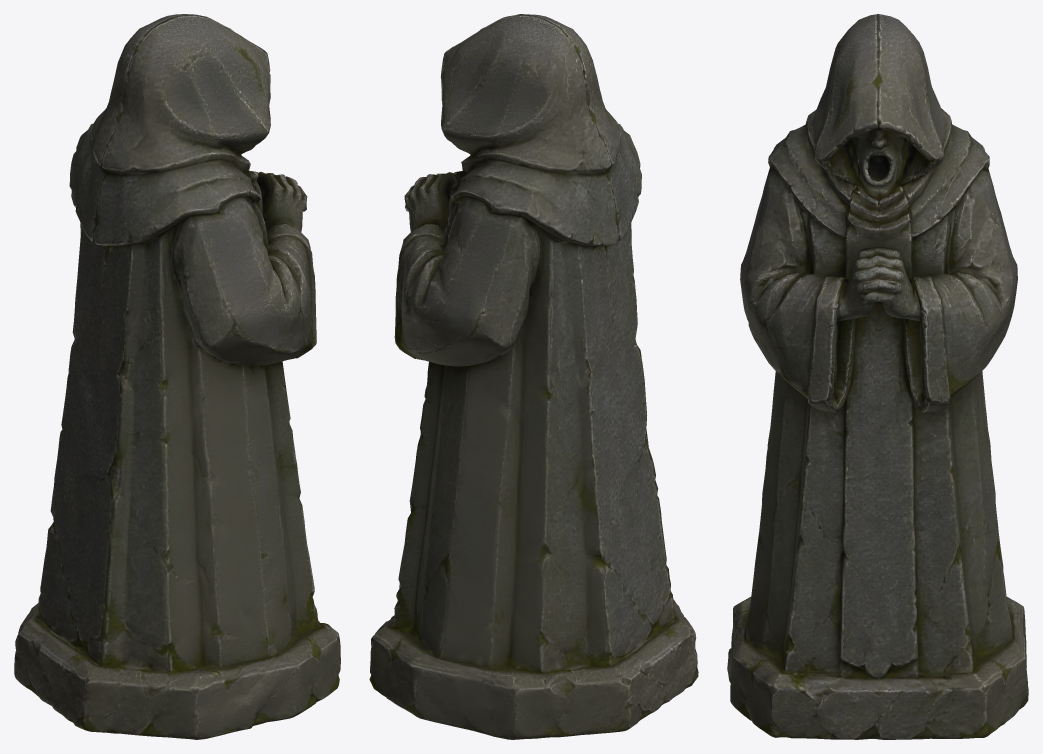
File: stone_choire.glb
3 renders of one model, left to right at view 1: azimuth 30°, elevation 25°; view 2: azimuth 150°, elevation 25°; view 3: azimuth 270°, elevation 25°, orthographic.
Visible parts, largest first — view 1: tripo_node_07786f69-17fd-4edb-84b2-b7a28cbb1f77; view 2: tripo_node_07786f69-17fd-4edb-84b2-b7a28cbb1f77; view 3: tripo_node_07786f69-17fd-4edb-84b2-b7a28cbb1f77.
Part boxes in pixels (left/top/right/bottom): tripo_node_07786f69-17fd-4edb-84b2-b7a28cbb1f77: left=14, top=14, right=340, bottom=739; tripo_node_07786f69-17fd-4edb-84b2-b7a28cbb1f77: left=369, top=14, right=698, bottom=739; tripo_node_07786f69-17fd-4edb-84b2-b7a28cbb1f77: left=727, top=14, right=1028, bottom=739.
Bounding box in the file's own units: 0.403 × 1 × 0.4107.
Materials: 1 (1 with a texture image).
